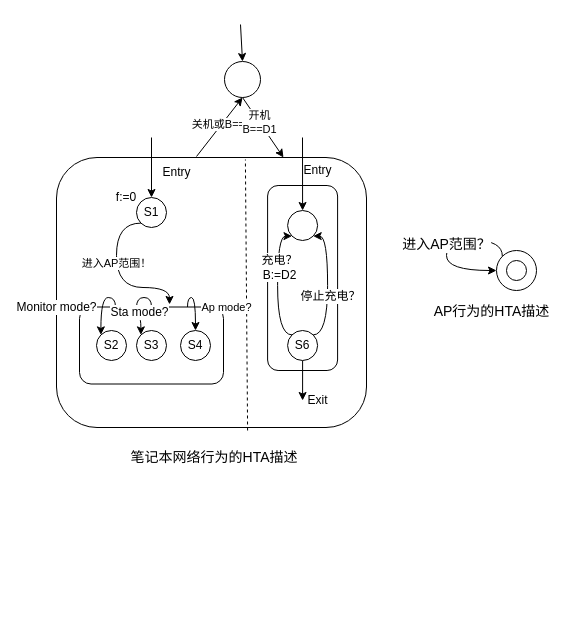
This 574x633 diagram has some shape labels left out. Here are the shapes that lost their labels. From the top down, the centre of each, then its label:
At point 242,79: "S0".
At point 302,225: "S5".
